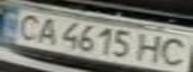1: (93, 25, 115, 57)
4: (57, 20, 81, 50)
5: (112, 27, 139, 60)
6: (75, 22, 100, 54)
A: (30, 16, 63, 45)
C: (154, 34, 193, 69), (9, 11, 45, 40)
H: (133, 31, 169, 64)
